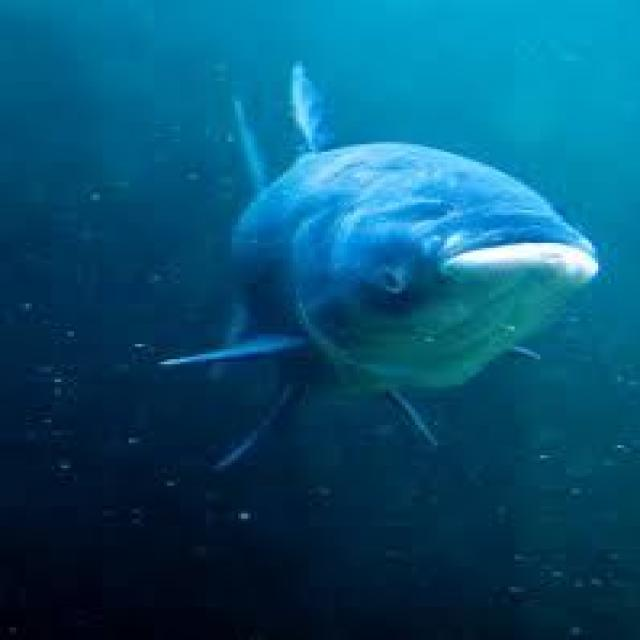Big-Head-Carp: (51, 11, 603, 550)
